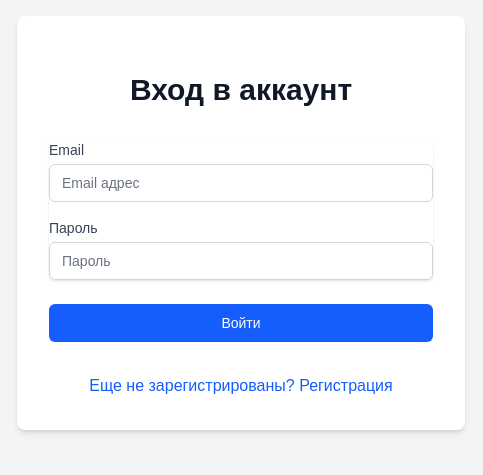
Test: SignInContent › отображает ошибку валидации для слишком короткого пароля
Type "test@example.com" into the field labelled "Email" at [241, 183], box x1=49 y1=164 x2=433 y2=202
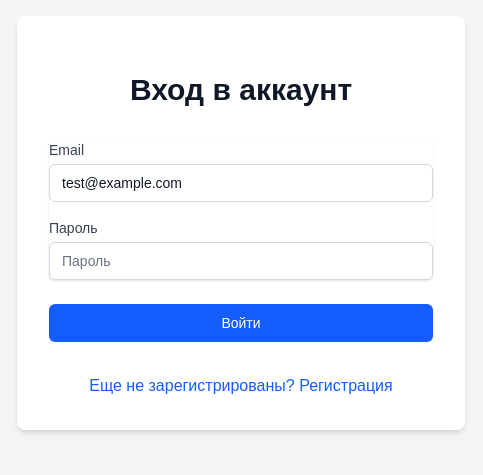
Type "12345" into the password field labelled "Пароль" at [241, 261], box x1=49 y1=242 x2=433 y2=280
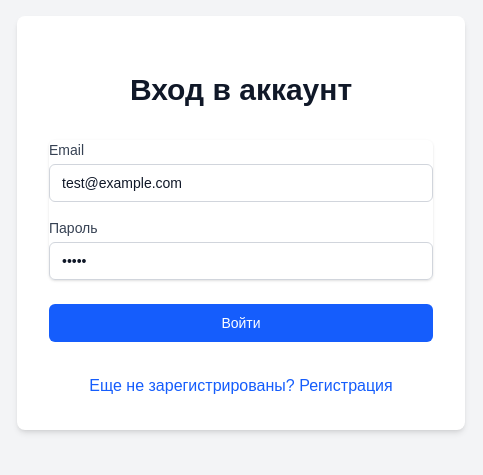
Click the button "Войти" at [241, 323], box x1=49 y1=304 x2=433 y2=342
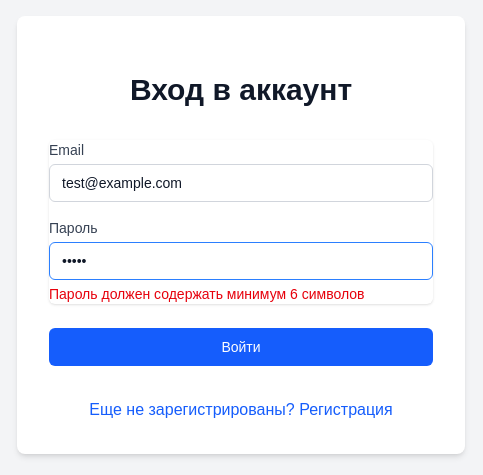
Result: the text "Пароль должен содержать минимум 6 символов" is shown at x1=49 y1=286 x2=364 y2=302
